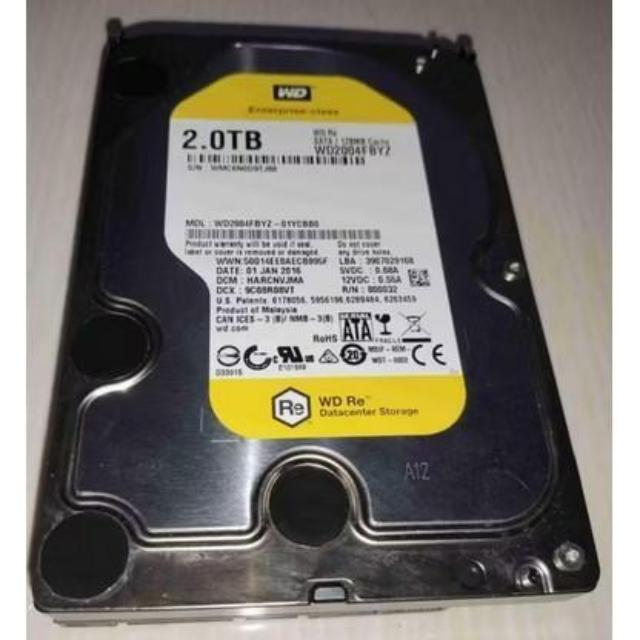DISK: (38, 16, 590, 598)
